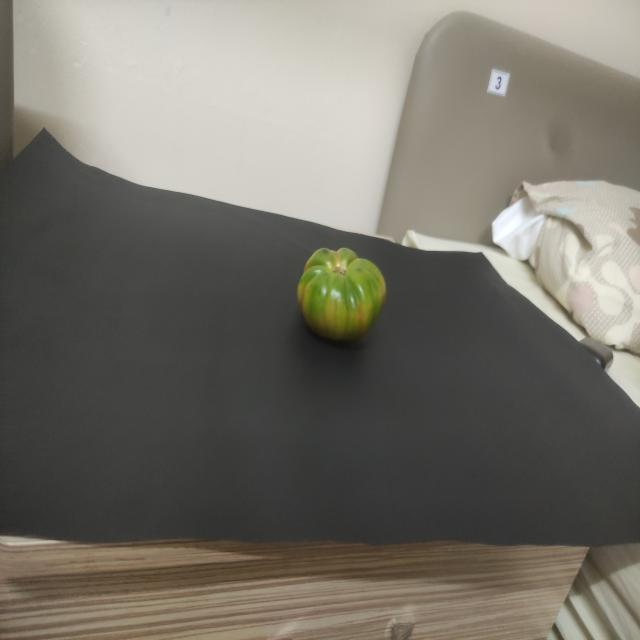unripe tomato: (287, 223, 393, 347)
